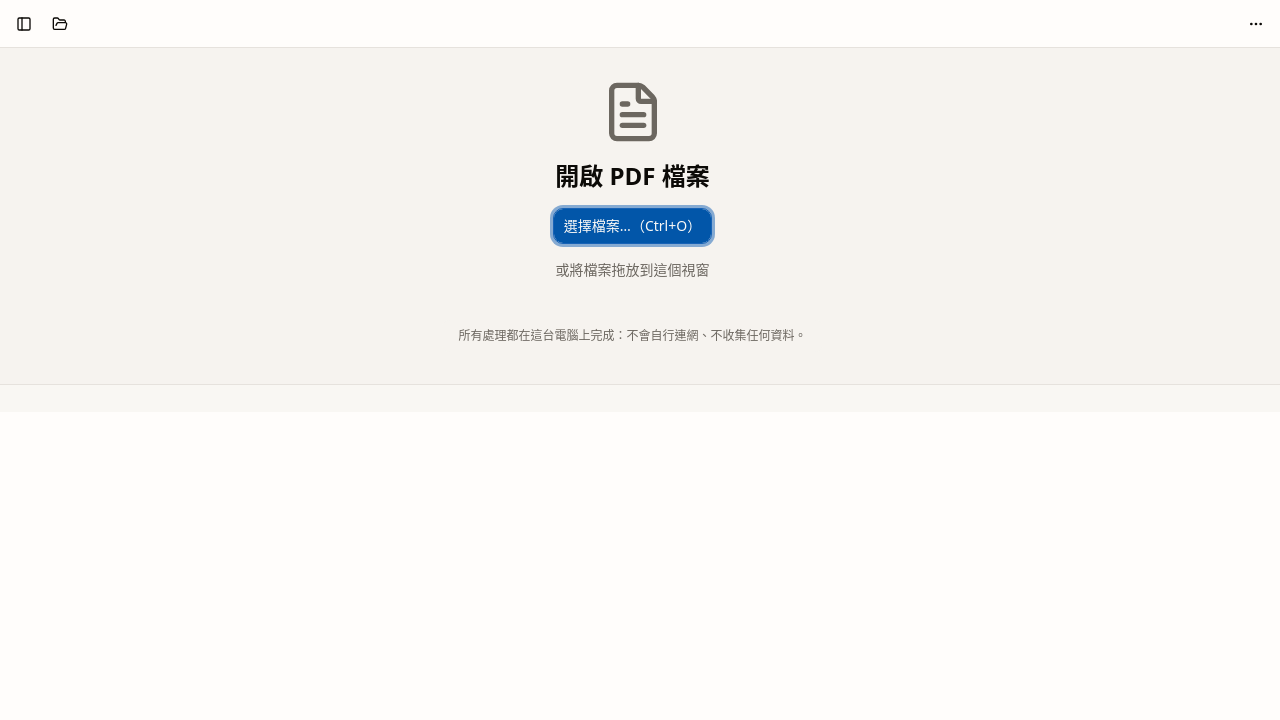
Test case: settings (B2-12) › states what the app keeps on this computer
The image size is (1280, 720).
Click the button named "更多" at point(1256, 24), box [1240,8,1272,40]
(page scrolled)
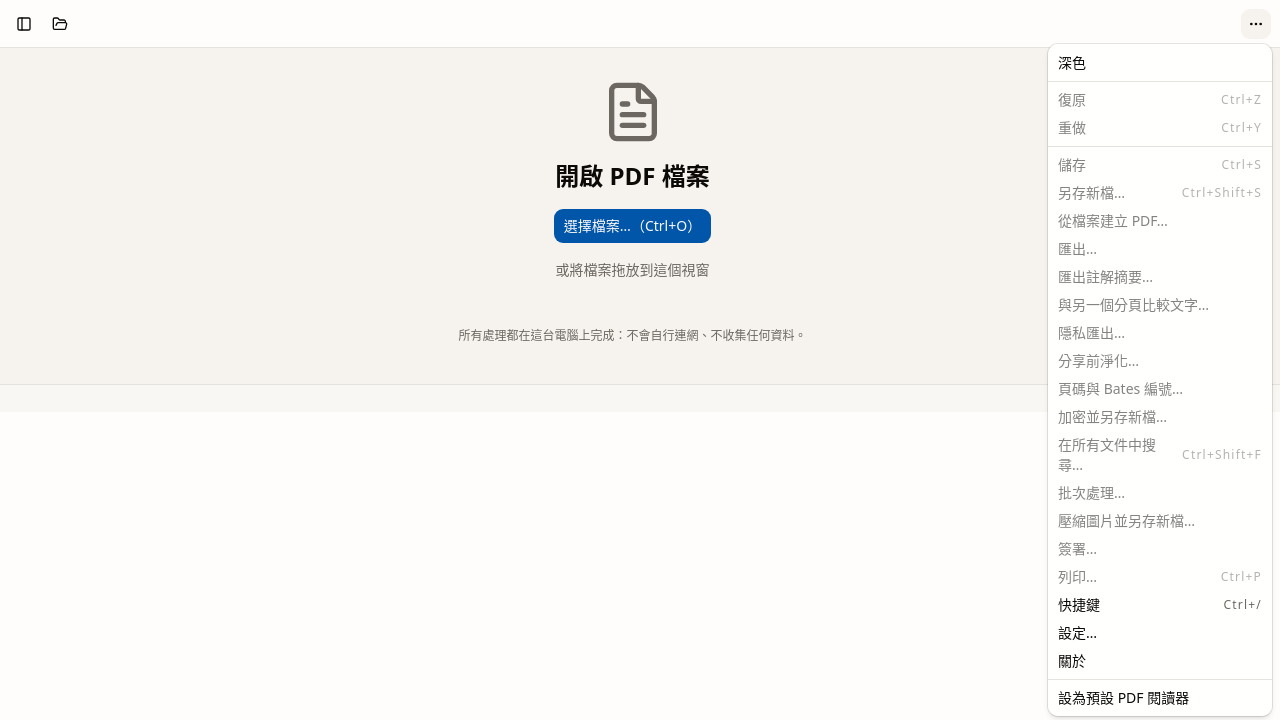
Click the menu item "設定…" at point(1078, 632), box [1058,623,1097,642]
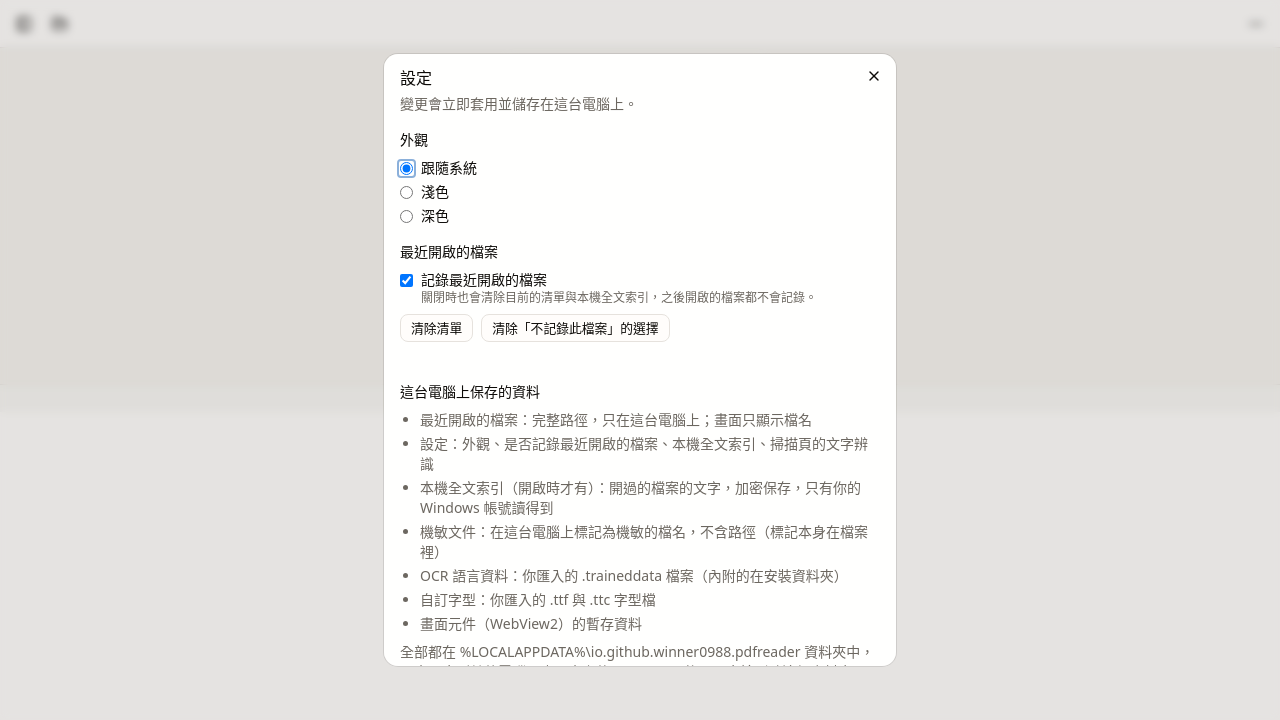
Check: the list item "最近開啟的檔案：完整路徑，只在這台電腦上；畫面只顯示檔名" is shown, box [420,410,880,430]
Check: the list item "設定：外觀、是否記錄最近開啟的檔案、本機全文索引、掃描頁的文字辨識" is shown, box [420,434,880,474]
Check: the list item "本機全文索引（開啟時才有）：開過的檔案的文字，加密保存，只有你的 Windows 帳號讀得到" is shown, box [420,478,880,518]
